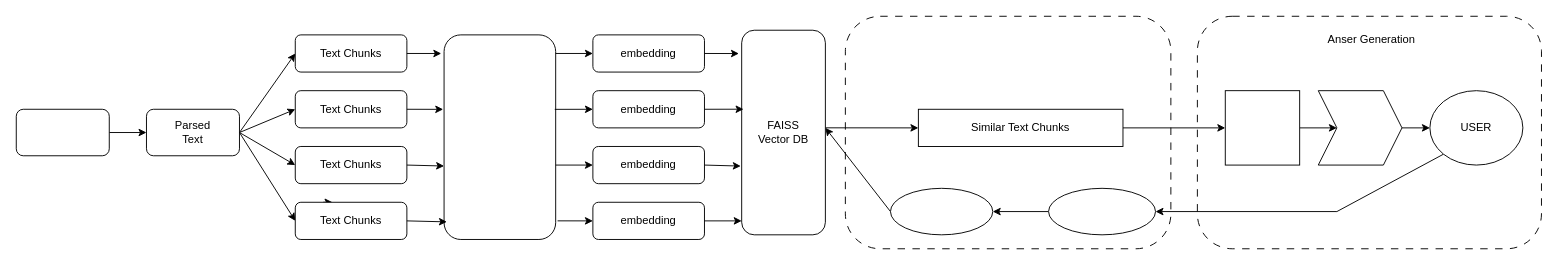
The diagram is 1558 pixels wide and 265 high, and some of its shapes have lost their labels. The shapes that lost their labels are listed below. From the top down, each one's centre as x and y in pixels, then its label:
the point at 62,132: PDF
the point at 499,136: Transformer Embedding Model
the point at 1262,127: LLM
the point at 1359,127: Answer
the point at 941,211: Question Embedding
the point at 1102,211: User Question
